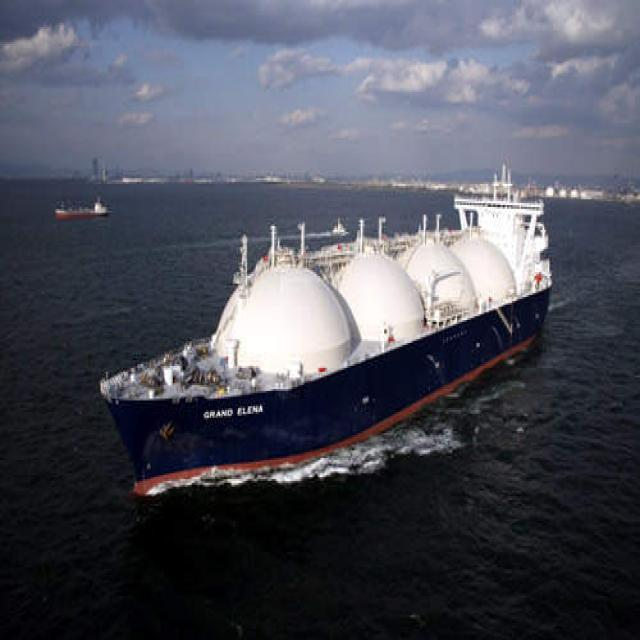boat: (92, 152, 572, 502)
